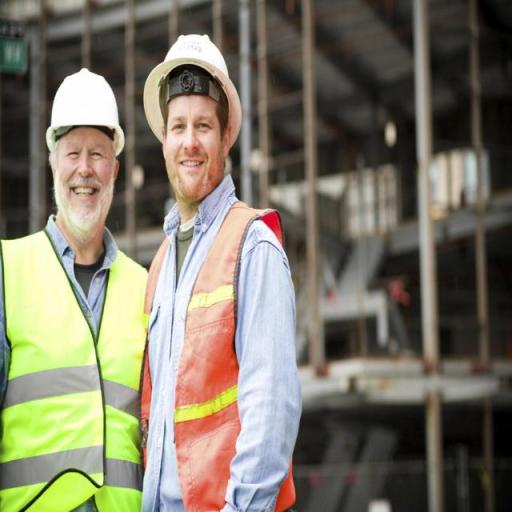helmet: (43, 64, 127, 154)
vest: (145, 198, 288, 509), (1, 230, 151, 508)
